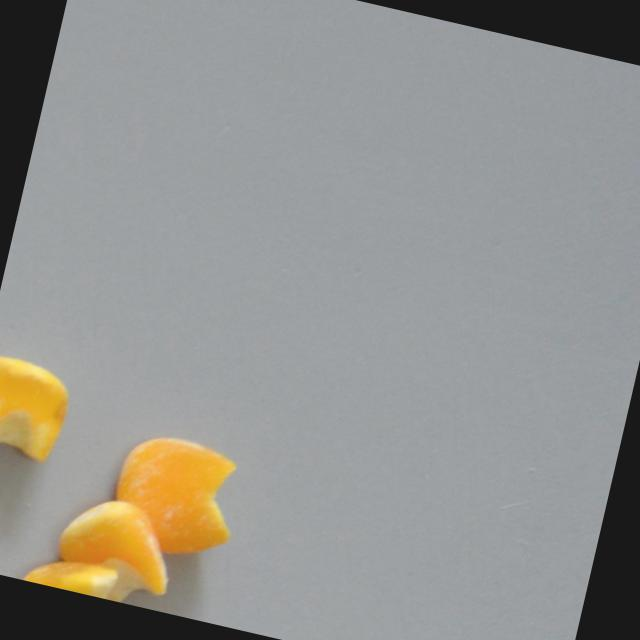no_canjicado: (20, 550, 136, 604)
pelicula: (102, 427, 249, 569), (47, 488, 185, 612), (0, 353, 76, 468)
